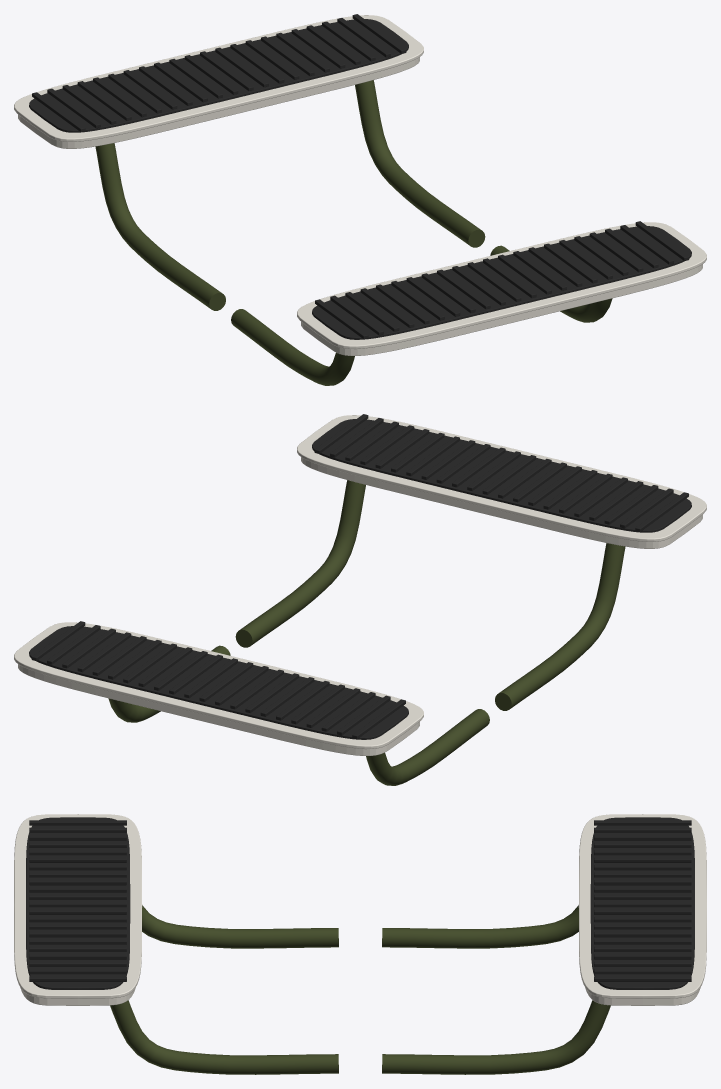
File: bike_vintage_vtwin__footpegs.glb
3 views of the same model, one above another, from view 1: azimuth 30°, elevation 25°; view 2: azimuth 150°, elevation 25°; view 3: azimuth 270°, elevation 25° (orthographic).
Parts seen in each view (by area): view 1: chassis__footboards__mats, chassis__footboards, chassis__footboards__brackets; view 2: chassis__footboards__mats, chassis__footboards, chassis__footboards__brackets; view 3: chassis__footboards__mats, chassis__footboards__brackets, chassis__footboards.
Boxes of the visible parts, bbox=[...] form: chassis__footboards__mats: bbox=[29, 14, 691, 339]; chassis__footboards: bbox=[14, 15, 706, 355]; chassis__footboards__brackets: bbox=[95, 80, 612, 385]; chassis__footboards__mats: bbox=[29, 414, 691, 739]; chassis__footboards: bbox=[14, 415, 706, 755]; chassis__footboards__brackets: bbox=[108, 480, 625, 785]; chassis__footboards__mats: bbox=[26, 817, 694, 989]; chassis__footboards__brackets: bbox=[110, 905, 610, 1074]; chassis__footboards: bbox=[14, 814, 706, 1005].
Bounding box in the file's own units: 39.6 × 11.45 × 63.8.
